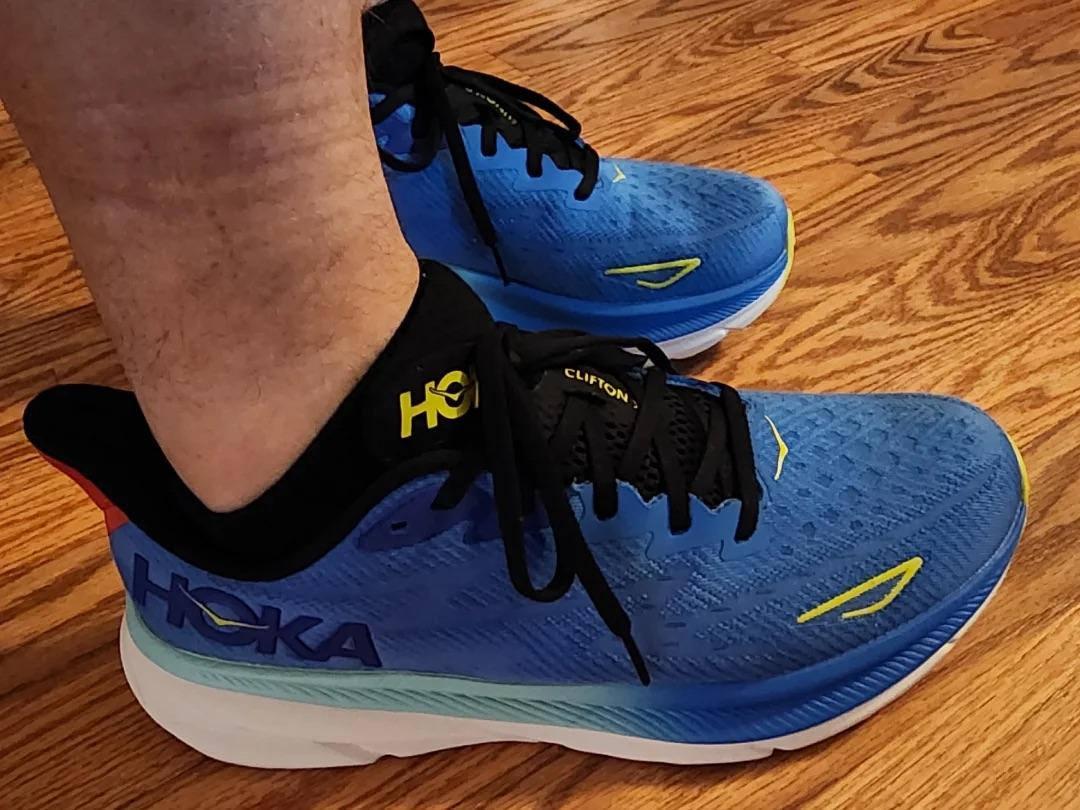hoka logo: (104, 543, 394, 702), (400, 358, 508, 455), (764, 415, 789, 480)
